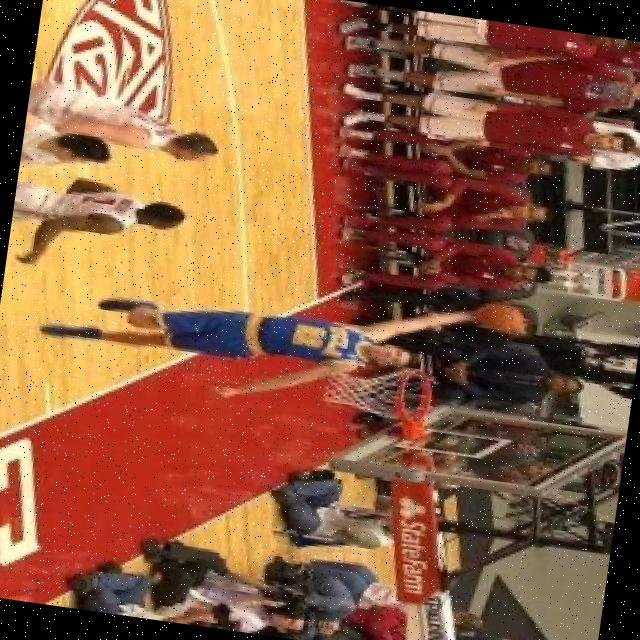ball: (479, 300, 524, 334)
